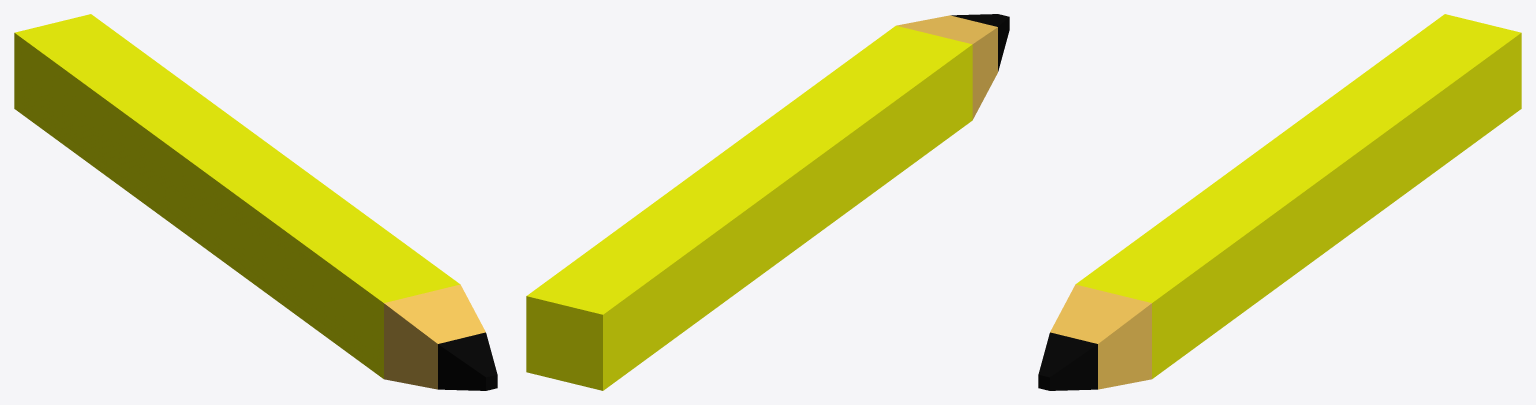
Rendered from opencil_yellow.FBX.
3 renders of one model, left to right at view 1: azimuth 30°, elevation 25°; view 2: azimuth 150°, elevation 25°; view 3: azimuth 330°, elevation 25°, orthographic.
Parts seen in each view (by area): view 1: Box001; view 2: Box001; view 3: Box001.
Boxes of the visible parts, x1,y1,x2,y2 form: Box001: [14, 14, 497, 390]; Box001: [526, 14, 1009, 390]; Box001: [1038, 14, 1521, 390].
Size of the model in its own units: 6.43 by 63.81 by 6.11.
3 materials, 3 textured.
